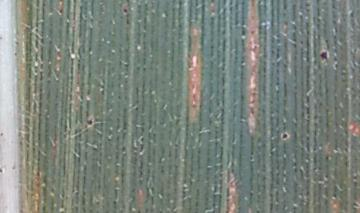tarspot: (319, 49, 330, 60), (121, 4, 129, 15), (280, 131, 289, 140), (86, 117, 94, 125), (57, 8, 64, 15)
